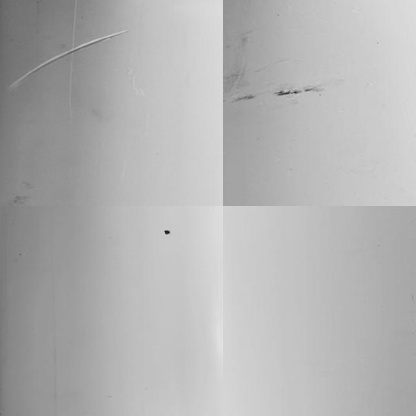sunshang: (10, 31, 134, 93)
